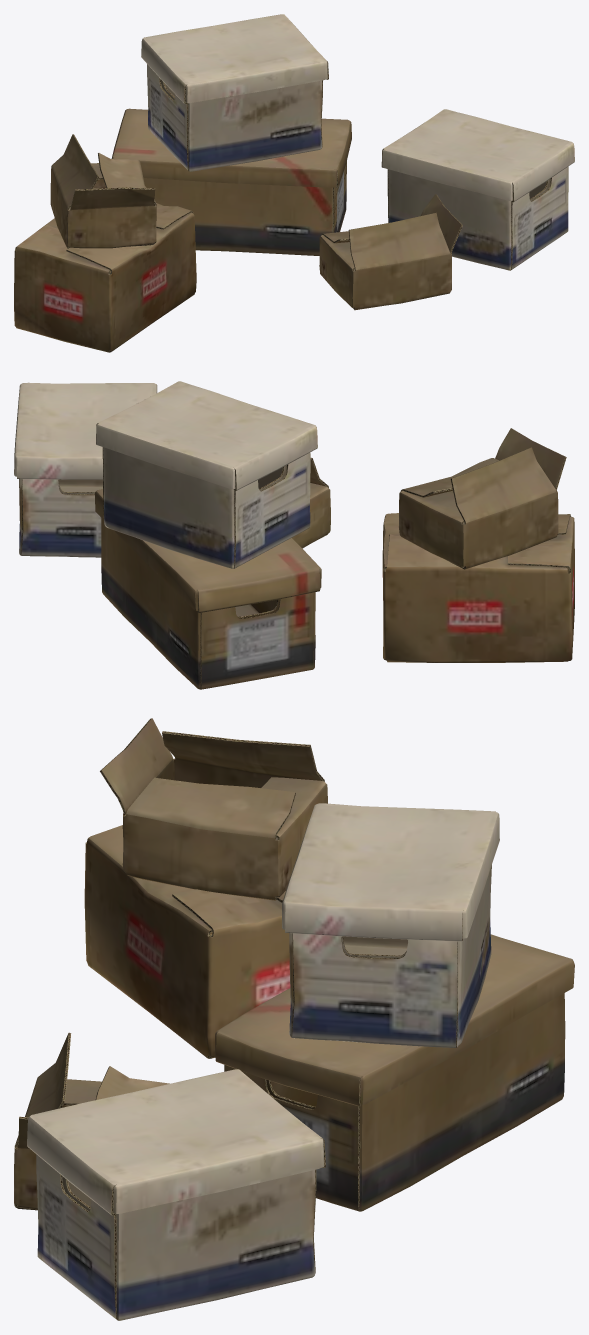
Rendered from case-boxes.glb.
The picture shows the model from 3 angles, top to bottom: view 1: azimuth 30°, elevation 25°; view 2: azimuth 150°, elevation 25°; view 3: azimuth 270°, elevation 25°; orthographic projection. The views are drawn at different scales.
Parts seen in each view (by area): view 1: BoxC, BoxB, BoxB_lid_PI_BOX_0, BoxA, BoxB_lid001_PI_BOX_0, BoxD, BoxB001, BoxD001, BoxA_lid_PI_BOX_0; view 2: BoxC, BoxA, BoxB, BoxD001, BoxB_lid_PI_BOX_0, BoxB_lid001_PI_BOX_0, BoxA_lid_PI_BOX_0, BoxB001, BoxD; view 3: BoxB001, BoxD001, BoxB_lid001_PI_BOX_0, BoxA, BoxC, BoxB_lid_PI_BOX_0, BoxB, BoxA_lid_PI_BOX_0, BoxD.
Boxes of the visible parts, x1=… form: BoxC: x1=14, y1=203, x2=196, y2=352; BoxB: x1=147, y1=64, x2=322, y2=171; BoxB_lid_PI_BOX_0: x1=141, y1=14, x2=327, y2=103; BoxA: x1=143, y1=161, x2=346, y2=255; BoxB_lid001_PI_BOX_0: x1=382, y1=109, x2=574, y2=201; BoxD: x1=319, y1=194, x2=462, y2=310; BoxB001: x1=387, y1=166, x2=568, y2=270; BoxD001: x1=50, y1=134, x2=156, y2=248; BoxA_lid_PI_BOX_0: x1=111, y1=108, x2=351, y2=187; BoxC: x1=382, y1=513, x2=574, y2=662; BoxA: x1=101, y1=518, x2=315, y2=689; BoxB: x1=102, y1=447, x2=310, y2=568; BoxD001: x1=399, y1=428, x2=566, y2=569; BoxB_lid_PI_BOX_0: x1=96, y1=381, x2=317, y2=490; BoxB_lid001_PI_BOX_0: x1=14, y1=382, x2=157, y2=479; BoxA_lid_PI_BOX_0: x1=95, y1=489, x2=321, y2=612; BoxB001: x1=19, y1=479, x2=102, y2=557; BoxD: x1=292, y1=457, x2=330, y2=548; BoxB001: x1=36, y1=1154, x2=316, y2=1320; BoxD001: x1=100, y1=718, x2=327, y2=900; BoxB_lid001_PI_BOX_0: x1=27, y1=1069, x2=323, y2=1215; BoxA: x1=224, y1=993, x2=565, y2=1211; BoxC: x1=84, y1=825, x2=290, y2=1058; BoxB_lid_PI_BOX_0: x1=282, y1=803, x2=499, y2=941; BoxB: x1=289, y1=865, x2=491, y2=1047; BoxA_lid_PI_BOX_0: x1=215, y1=934, x2=574, y2=1106; BoxD: x1=14, y1=1032, x2=169, y2=1210.
Size of the model in its own units: 1.75 by 0.5884 by 1.05.
2 materials, 2 textured.
